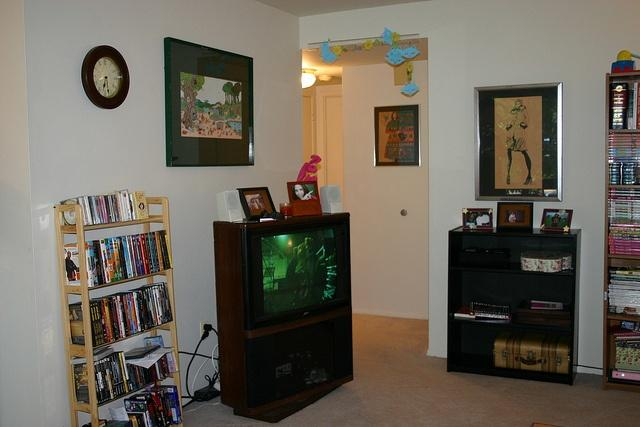Rak: (53, 189, 186, 426)
